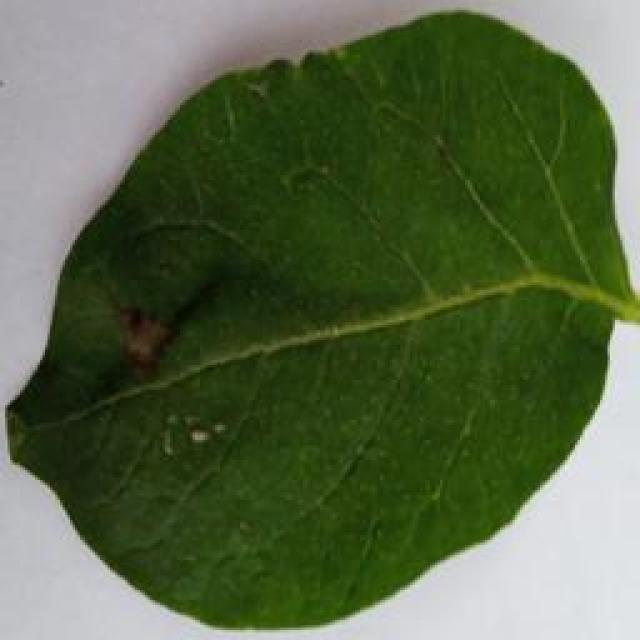Potato_Late_Blight: (0, 0, 640, 640), (88, 266, 215, 366)
